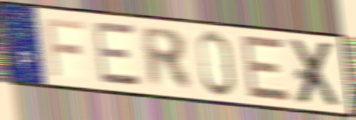0: (195, 28, 238, 99)
E: (240, 33, 293, 104), (91, 21, 144, 88)
F: (42, 15, 87, 79)
R: (138, 23, 196, 93)
X: (288, 38, 344, 109)
